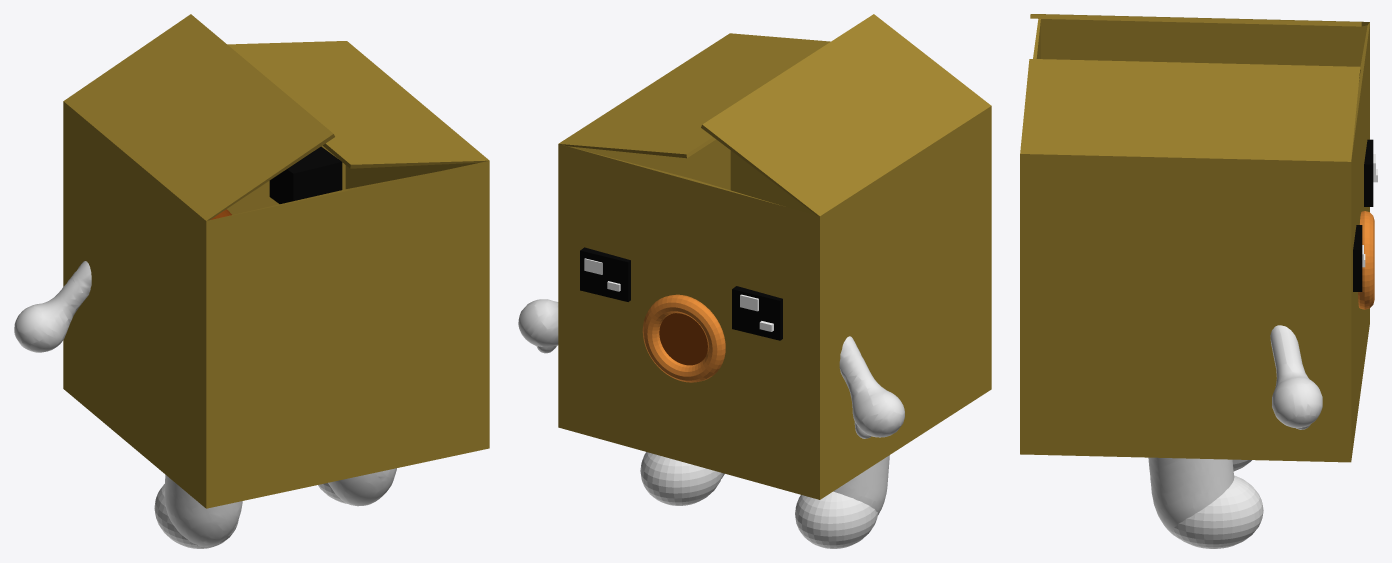
The model's file is boxbox.fbx.
3 views of the same model, side by side, from view 1: azimuth 30°, elevation 25°; view 2: azimuth 150°, elevation 25°; view 3: azimuth 270°, elevation 25° (orthographic). The views are drawn at different scales.
Visible parts, largest first — view 1: boxbox, Mball, Cube, Sphere.001; view 2: boxbox, Mball, Torus, Sphere.001, Sphere, Cone, Cube, Cube.001; view 3: boxbox, Mball, Sphere, Torus, Cube.001, Cube.
Boxes of the visible parts, x1=… form: boxbox: x1=63, y1=14, x2=489, y2=508; Mball: x1=14, y1=261, x2=396, y2=546; Cube: x1=269, y1=146, x2=342, y2=203; Sphere.001: x1=154, y1=484, x2=238, y2=548; boxbox: x1=558, y1=14, x2=991, y2=499; Mball: x1=518, y1=299, x2=904, y2=514; Torus: x1=642, y1=294, x2=725, y2=382; Sphere.001: x1=795, y1=491, x2=877, y2=548; Sphere: x1=640, y1=452, x2=722, y2=505; Cone: x1=659, y1=313, x2=707, y2=365; Cube: x1=580, y1=247, x2=630, y2=301; Cube.001: x1=732, y1=286, x2=782, y2=340; boxbox: x1=1020, y1=14, x2=1369, y2=462; Mball: x1=1148, y1=325, x2=1322, y2=539; Sphere: x1=1173, y1=475, x2=1263, y2=548; Torus: x1=1358, y1=211, x2=1374, y2=309; Cube.001: x1=1364, y1=139, x2=1373, y2=206; Cube: x1=1353, y1=225, x2=1362, y2=291.
Bounding box in the file's own units: 152 × 167 × 112.
